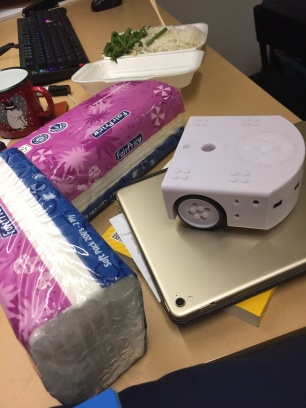thymio: (156, 110, 306, 239)
